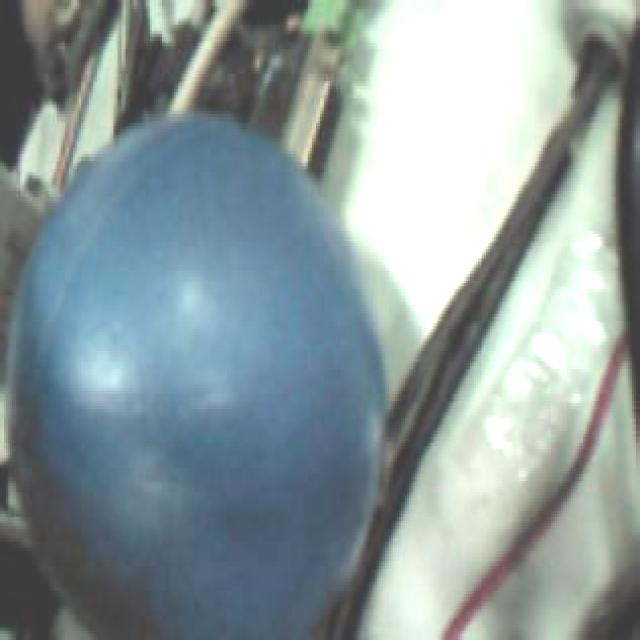BallPurple: (13, 116, 384, 640)
